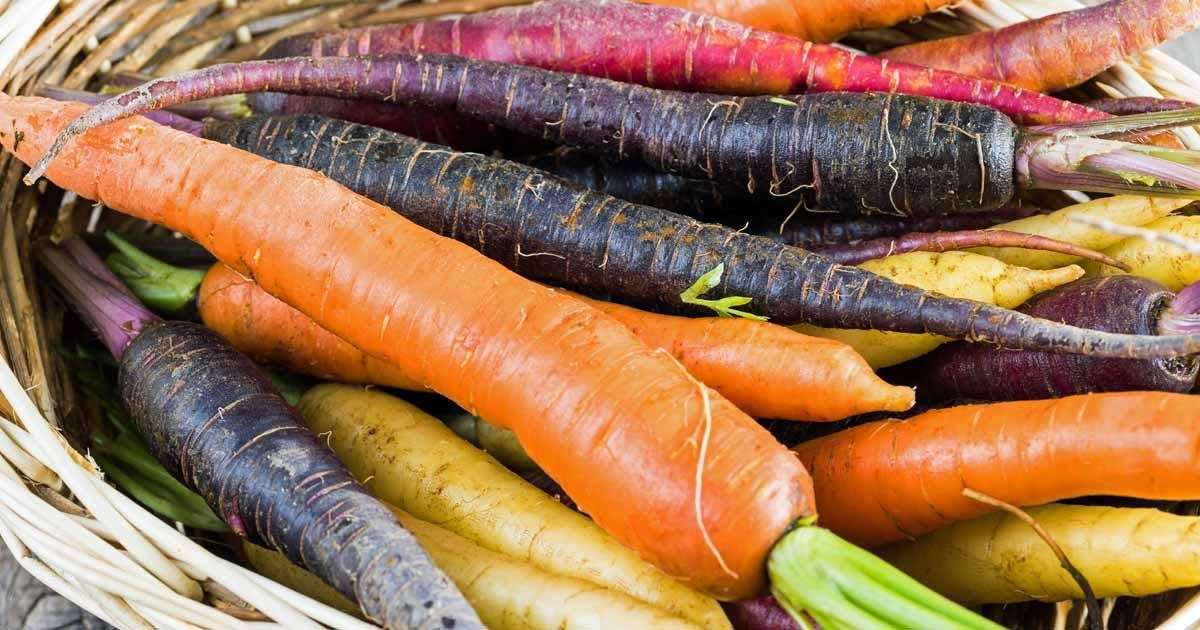carrot: (568, 378, 1185, 586)
